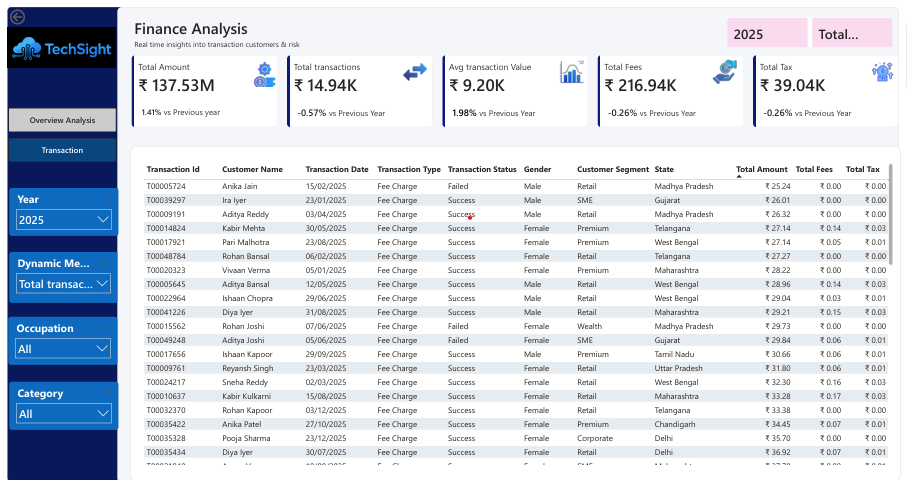

This screenshot's page, from the dashboard's own definition file:
{"tool":"powerbi","page":{"name":"Transaction","canvas":[1800,950],"ordinal":1},"visuals":[{"type":"shape","box":[0,0,242,950],"z":0},{"type":"shape","box":[220,0,1564,952],"z":1000},{"type":"cardVisual","fields":{"Data":["finance_transactions.Dashboard Titel"]},"box":[237.3,0,400,105.1],"z":2000},{"type":"cardVisual","fields":{"Data":["finance_transactions.Total Amount","finance_transactions.Total transactions","finance_transactions.Avg transaction Value","finance_transactions.Total Fees","finance_transactions.Total Tax"]},"box":[242.5,91.2,1551.2,155],"z":3000},{"type":"image","box":[490,112,50,50],"z":4000},{"type":"image","box":[791,105,50,50],"z":5000},{"type":"image","box":[1411,105,50,50],"z":6000},{"type":"image","box":[1105,105,50,50],"z":7000},{"type":"image","box":[1727,105,50,50],"z":8000},{"type":"shape","box":[246,278,1542,672],"z":9000},{"type":"cardVisual","fields":{"Data":["finance_transactions.Selected Year","finance_transactions.Selected Dynamic Measure"]},"box":[1436,16,342,70],"z":10000},{"type":"tableEx","fields":{"Values":["finance_transactions.transaction_id","customers.customer name","finance_transactions.transaction_date","finance_transactions.transaction_type","finance_transactions.transaction_status","customers.gender","customers.customer_segment","customers.state","finance_transactions.Total Amount","finance_transactions.Total Fees","finance_transactions.Total Tax"]},"box":[268,308,1510,612],"z":11000},{"type":"actionButton","box":[0,0,100,40],"z":12000},{"type":"slicer","fields":{"Values":["Calendar table.Year"]},"box":[4,362,218,96],"z":13000},{"type":"slicer","fields":{"Values":["Dynamic Metric.Dynamic Metric"]},"box":[4,490,216,102],"z":14000},{"type":"slicer","fields":{"Values":["customers.occupation"]},"box":[2,620,218,96],"z":15000},{"type":"slicer","fields":{"Values":["finance_transactions.merchant_category"]},"box":[4,750,218,96],"z":16000},{"type":"pageNavigator","box":[2,202,216,108],"z":17000},{"type":"image","box":[0,26,216,112],"z":18000}]}

Visuals, with their boxes on the page's 1800x950 design canvas (x1, y1, x2, y2). These are canvas units, not pixel positions in the 911x480 screenshot, which may show the page scaled, cropped or inside an application window:
shape: {"left": 0, "top": 0, "right": 242, "bottom": 950}
shape: {"left": 220, "top": 0, "right": 1784, "bottom": 952}
cardVisual - finance_transactions.Dashboard Titel: {"left": 237, "top": 0, "right": 637, "bottom": 105}
cardVisual - finance_transactions.Total Amount x finance_transactions.Total transactions: {"left": 242, "top": 91, "right": 1794, "bottom": 246}
image: {"left": 490, "top": 112, "right": 540, "bottom": 162}
image: {"left": 791, "top": 105, "right": 841, "bottom": 155}
image: {"left": 1411, "top": 105, "right": 1461, "bottom": 155}
image: {"left": 1105, "top": 105, "right": 1155, "bottom": 155}
image: {"left": 1727, "top": 105, "right": 1777, "bottom": 155}
shape: {"left": 246, "top": 278, "right": 1788, "bottom": 950}
cardVisual - finance_transactions.Selected Year x finance_transactions.Selected Dynamic Measure: {"left": 1436, "top": 16, "right": 1778, "bottom": 86}
tableEx - finance_transactions.transaction_id x customers.customer name: {"left": 268, "top": 308, "right": 1778, "bottom": 920}
actionButton: {"left": 0, "top": 0, "right": 100, "bottom": 40}
slicer - Calendar table.Year: {"left": 4, "top": 362, "right": 222, "bottom": 458}
slicer - Dynamic Metric.Dynamic Metric: {"left": 4, "top": 490, "right": 220, "bottom": 592}
slicer - customers.occupation: {"left": 2, "top": 620, "right": 220, "bottom": 716}
slicer - finance_transactions.merchant_category: {"left": 4, "top": 750, "right": 222, "bottom": 846}
pageNavigator: {"left": 2, "top": 202, "right": 218, "bottom": 310}
image: {"left": 0, "top": 26, "right": 216, "bottom": 138}
